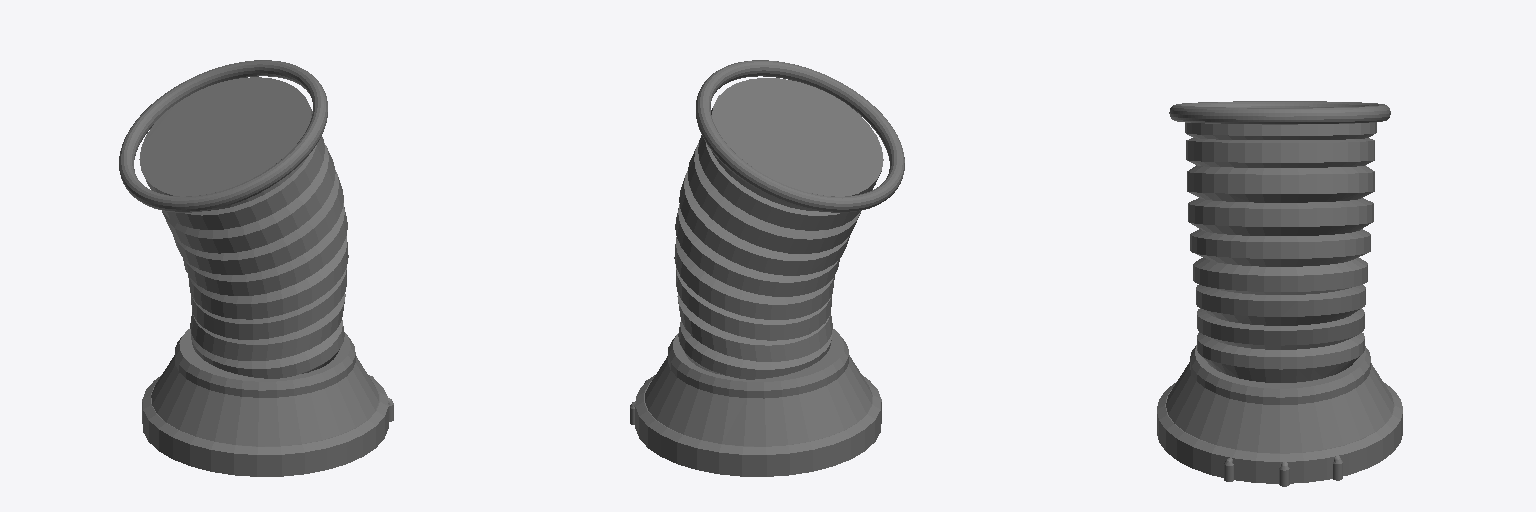
File: godard_pierna_trasera.obj
The picture shows the model from 3 angles: view 1: azimuth 30°, elevation 25°; view 2: azimuth 150°, elevation 25°; view 3: azimuth 270°, elevation 25°; orthographic projection.
Parts seen in each view (by area): view 1: PiernaTracera003, PiernaTracera001, PiernaTracera002, C_rculo_002, PiernaTracera; view 2: PiernaTracera003, PiernaTracera001, PiernaTracera002, C_rculo_002, PiernaTracera; view 3: PiernaTracera003, PiernaTracera001, PiernaTracera002, C_rculo_002, PiernaTracera, Cilindro_004_Cilindro_007.
Boxes of the visible parts, x1,y1,x2,y2 form: PiernaTracera003: [139, 77, 348, 378]; PiernaTracera001: [151, 355, 378, 446]; PiernaTracera002: [142, 375, 388, 476]; C_rculo_002: [119, 60, 327, 212]; PiernaTracera: [175, 329, 355, 397]; PiernaTracera003: [674, 78, 883, 379]; PiernaTracera001: [645, 355, 872, 446]; PiernaTracera002: [635, 375, 881, 476]; C_rculo_002: [696, 60, 904, 212]; PiernaTracera: [668, 329, 848, 398]; PiernaTracera003: [1185, 122, 1376, 382]; PiernaTracera001: [1166, 362, 1393, 452]; PiernaTracera002: [1157, 382, 1402, 483]; C_rculo_002: [1169, 101, 1390, 124]; PiernaTracera: [1190, 345, 1370, 404]; Cilindro_004_Cilindro_007: [1224, 456, 1342, 486].
Size of the model in its own units: 1.17 by 1.58 by 1.03.